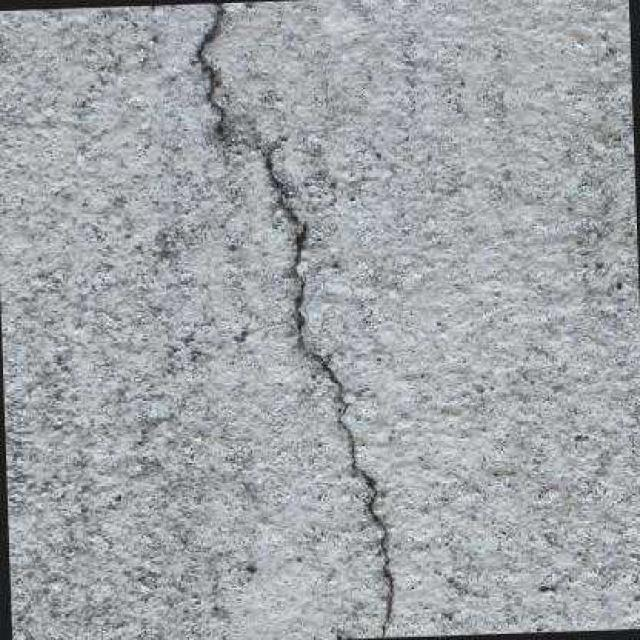D00: (195, 3, 391, 638)
